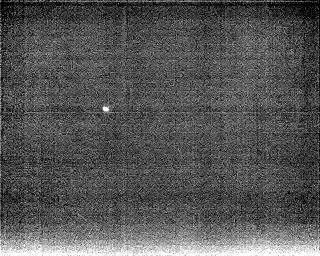AIRPLANE: (101, 104, 111, 114)
